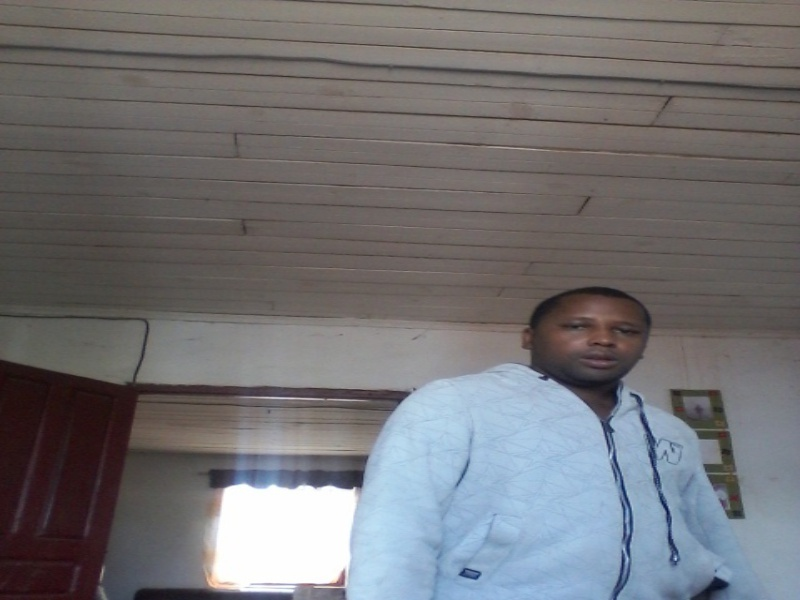TsisyArotava: (520, 265, 659, 400)
